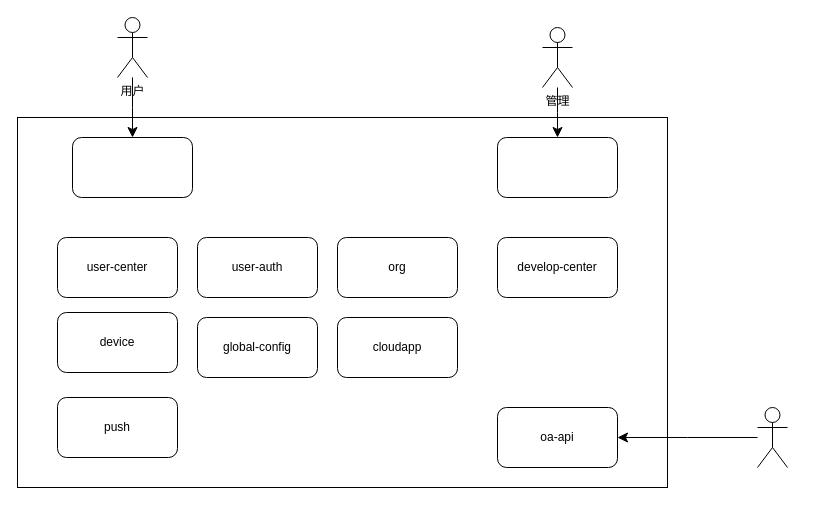
Image size: 820x506. Some labels were removed from this diagram. Here are the shapes that lost their labels. From the top down, the centre of each, then its label:
At pixel 132 167: "app-gateway".
At pixel 557 167: "base".
At pixel 772 437: "第三方调用".
